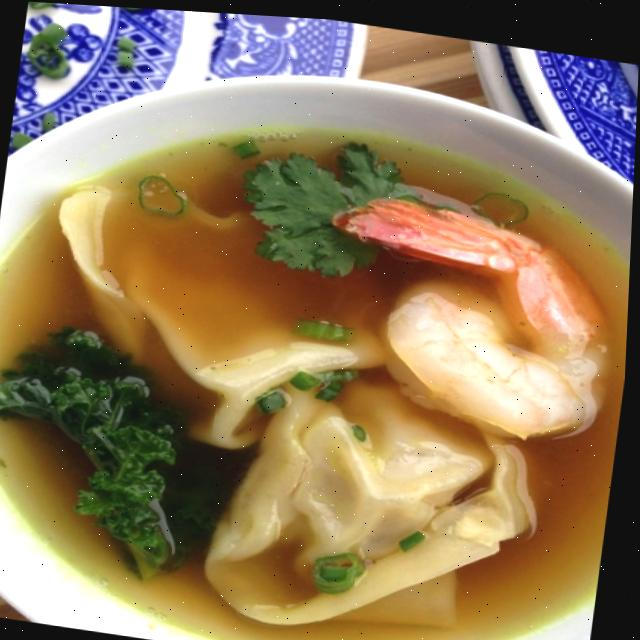汤锅炖物: (0, 64, 638, 640)
